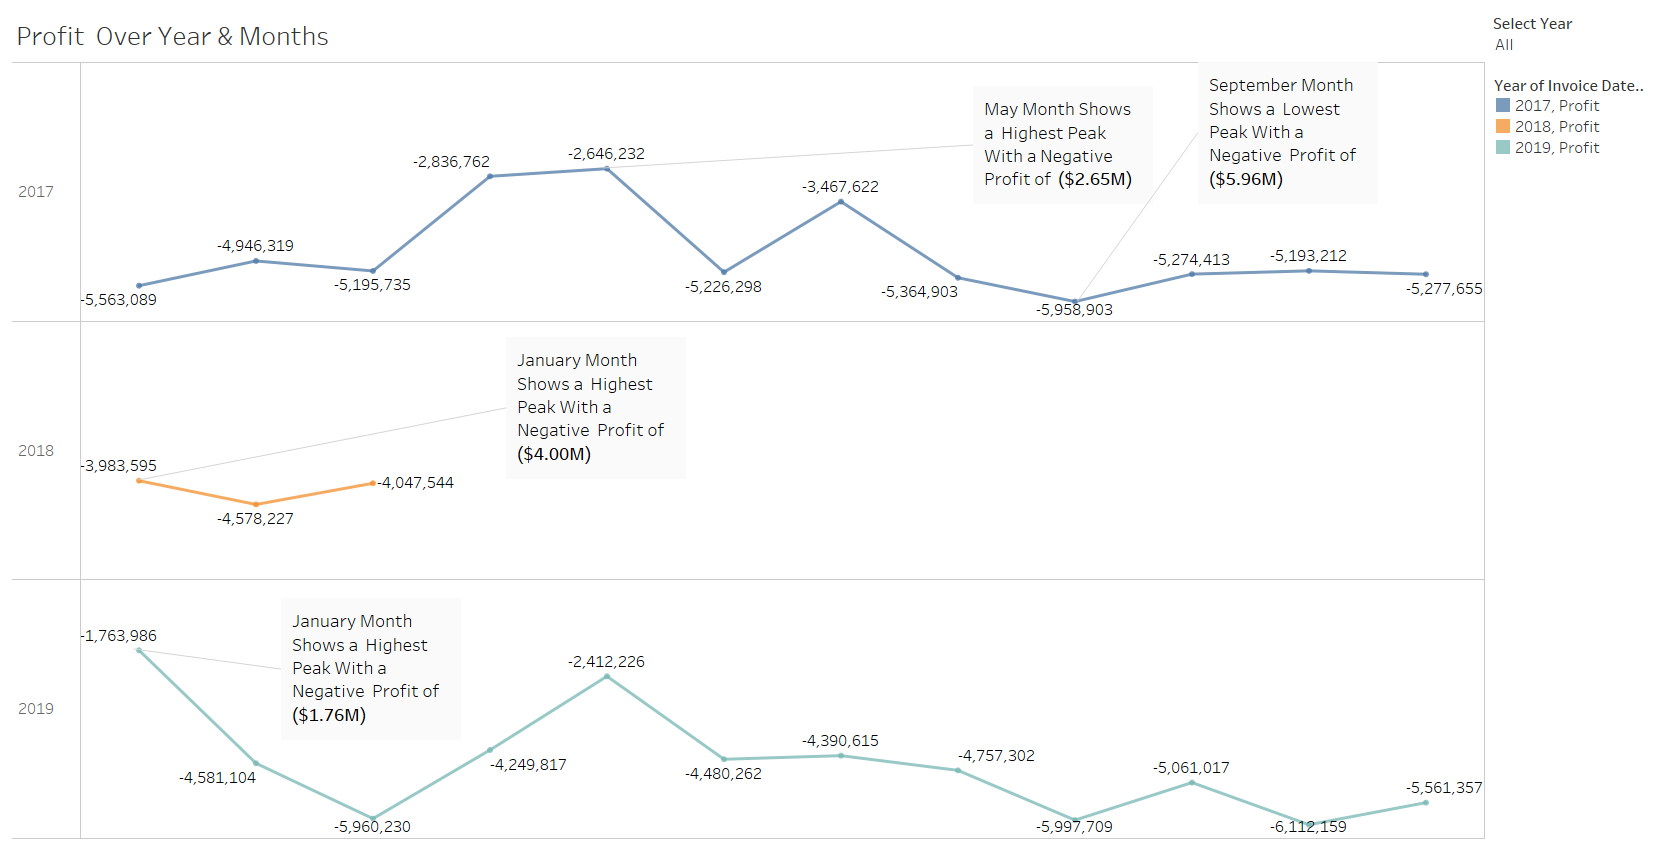

The dashboard page shown, as its layout file describes it:
{"tool":"tableau","page":{"name":"Profit Over Months","canvas":[1000,1000],"units":"permille","ordinal":2},"visuals":[{"type":"worksheet","title":"Profit  Over Year & Months","mark":"Automatic","rows":["Invoice Date","Profit"],"cols":["Invoice Date"],"box":[4.8,9.4,893.8,981.2]},{"type":"filter","title":"Profit  Over Year & Months","param":"[federated.0ecjack1chjh4a12fkh7a0i64tfm].[yr:Invoice Date:ok]","box":[898.6,9.4,96.6,71.7]},{"type":"legend","title":"Profit  Over Year & Months","param":"[federated.0ecjack1chjh4a12fkh7a0i64tfm].[yr:Invoice Date:ok]\n[federated.0ecjack","box":[898.6,81.1,96.6,109.3]}]}

Visuals, with their boxes on the dashboard's canvas, which has no fixed pixel size, in thousandths of its width and height (x1, y1, x2, y2). These are canvas units, not pixel positions in the 1657x851 screenshot, which may show the page scaled, cropped or inside an application window:
"Profit  Over Year & Months" worksheet: x1=5 y1=9 x2=899 y2=991
"Profit  Over Year & Months" filter: x1=899 y1=9 x2=995 y2=81
"Profit  Over Year & Months" legend: x1=899 y1=81 x2=995 y2=190
